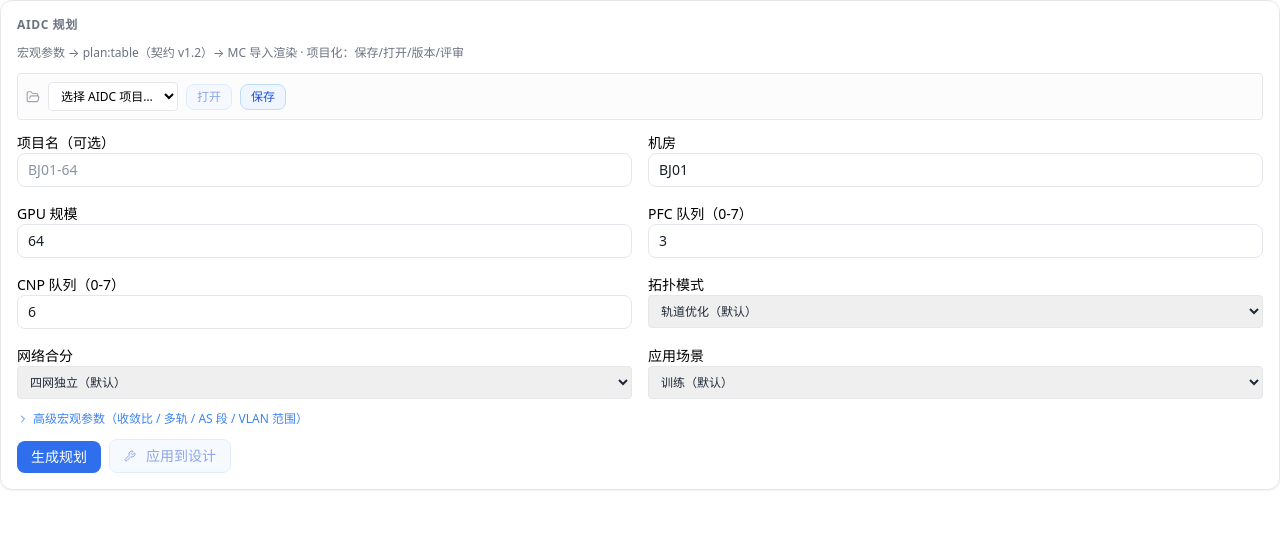
Test case: AidcPlannerPanel › 后端报错时显示错误信息
Step 1. Click the button "生成规划" → (59, 457), box [17,441,101,473]
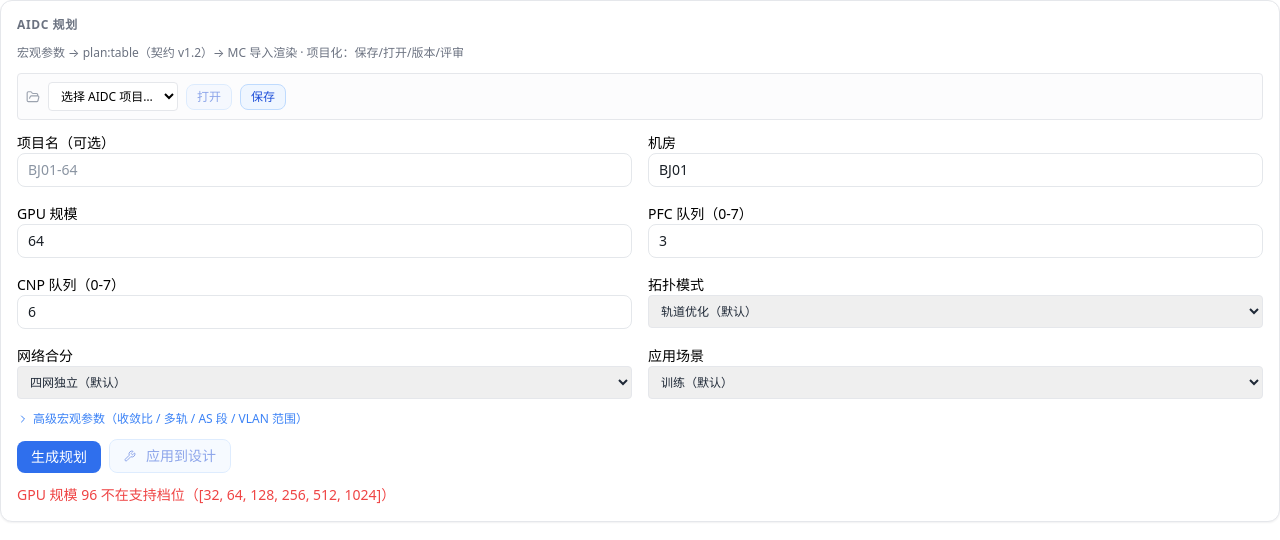
Now the text "GPU 规模 96 不在支持档位（[32, 64, 128, 256, 512, 1024]）" is shown, box [17,485,395,504]
